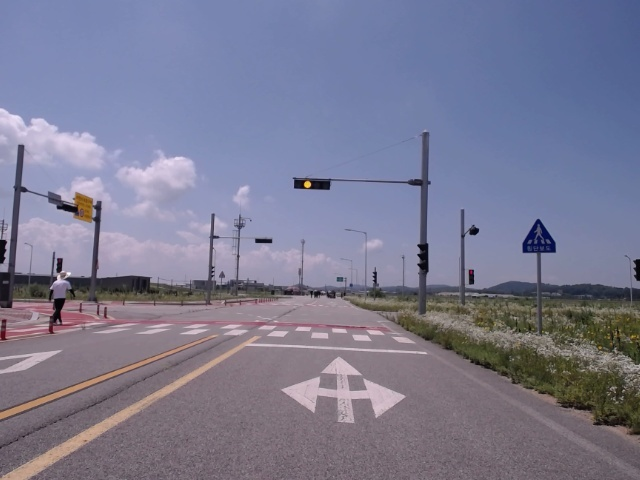orange_4: (292, 178, 331, 191)
